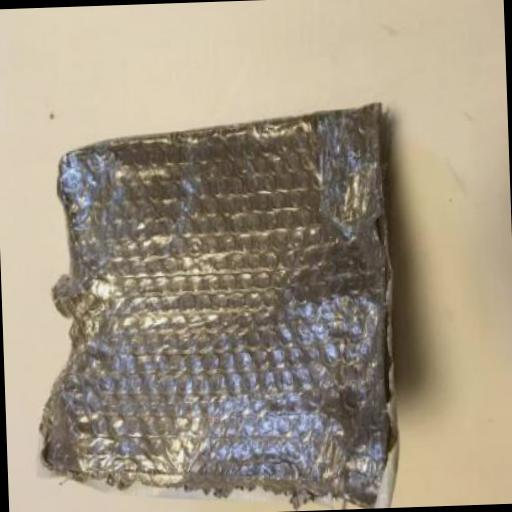plastic: (19, 99, 400, 512)
